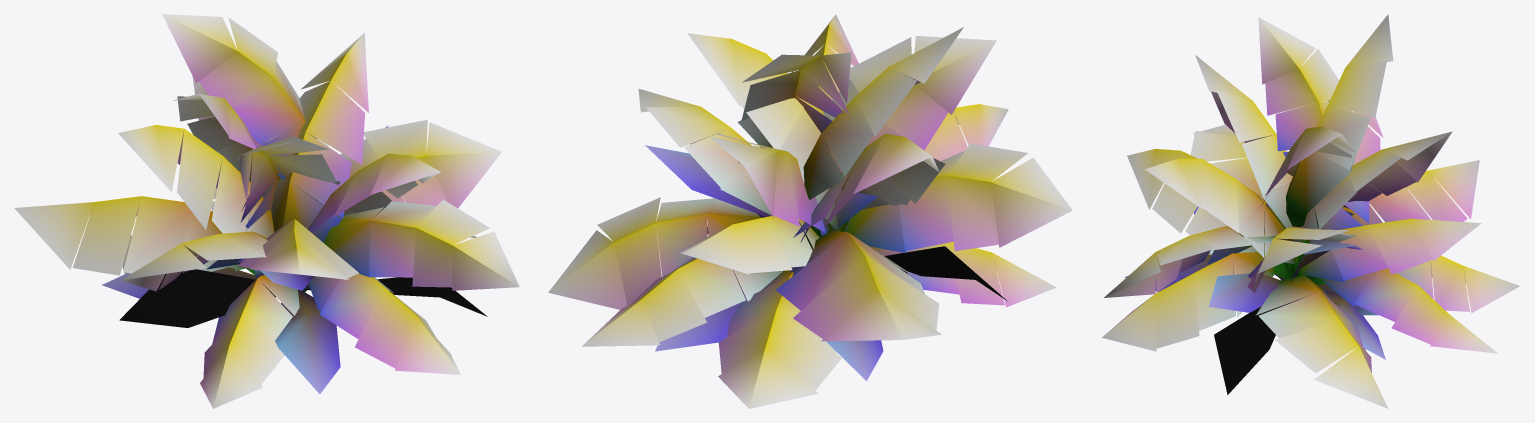
Rendered from tree_palm_g.dae.
3 renders of one model, left to right at view 1: azimuth 30°, elevation 25°; view 2: azimuth 150°, elevation 25°; view 3: azimuth 270°, elevation 25°, orthographic. The views are drawn at different scales.
Parts seen in each view (by area): view 1: tree_palm_g_001; view 2: tree_palm_g_001; view 3: tree_palm_g_001.
Part boxes in pixels (x1,y1,x2,y2): tree_palm_g_001: [14, 14, 519, 408]; tree_palm_g_001: [548, 14, 1072, 408]; tree_palm_g_001: [1102, 14, 1519, 408].
Size of the model in its own units: 7.79 by 7.58 by 5.57.
